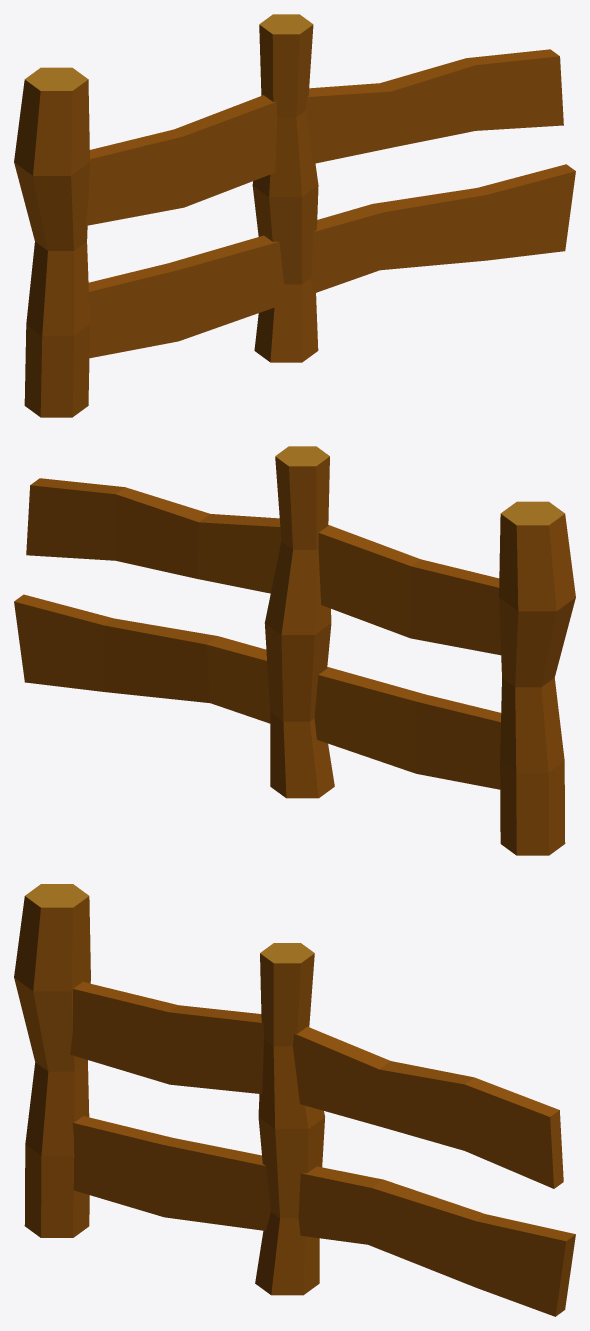
Rendered from fence_2.fbx.
3 renders of one model, top to bottom at view 1: azimuth 30°, elevation 25°; view 2: azimuth 150°, elevation 25°; view 3: azimuth 330°, elevation 25°, orthographic.
Visible parts, largest first — view 1: fence_2; view 2: fence_2; view 3: fence_2.
Boxes of the visible parts, x1,y1,x2,y2 form: fence_2: (14, 14, 575, 417); fence_2: (14, 446, 575, 855); fence_2: (14, 884, 575, 1316).
Size of the model in its own units: 536 by 307 by 64.87.
